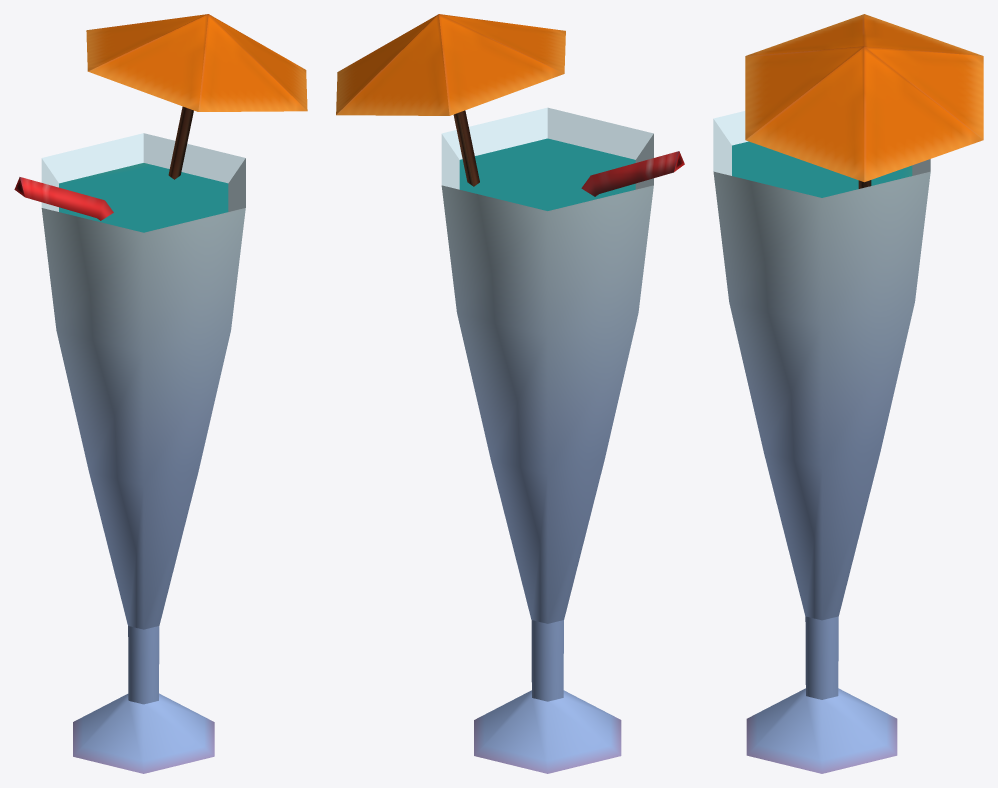
File: Cocktail_02.fbx
The picture shows the model from 3 angles, left to right: view 1: azimuth 30°, elevation 25°; view 2: azimuth 150°, elevation 25°; view 3: azimuth 270°, elevation 25°; orthographic projection. The views are drawn at different scales.
Parts seen in each view (by area): view 1: Cocktail_02; view 2: Cocktail_02; view 3: Cocktail_02.
Part boxes in pixels (x1,y1,x2,y2): Cocktail_02: (14,14,307,773); Cocktail_02: (336,14,684,773); Cocktail_02: (713,14,983,773).
Size of the model in its own units: 6.8 by 14.58 by 4.86.
